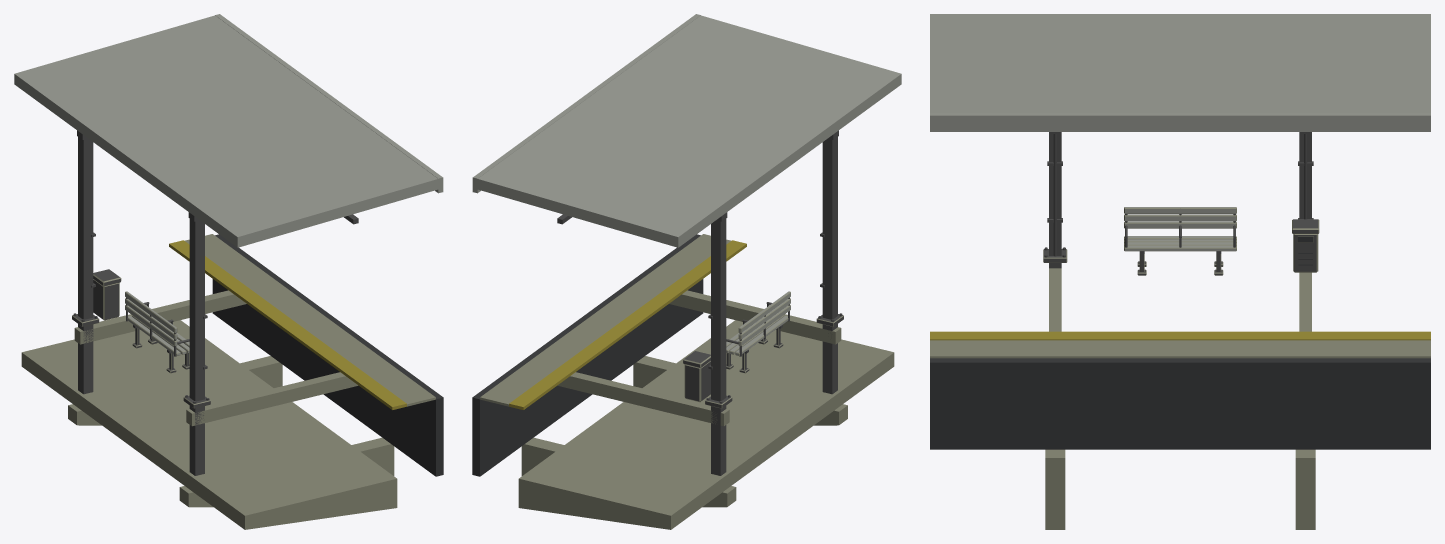
File: platform_close.fbx
3 renders of one model, left to right at view 1: azimuth 30°, elevation 25°; view 2: azimuth 150°, elevation 25°; view 3: azimuth 270°, elevation 25°, orthographic. The views are drawn at different scales.
Visible parts, largest first — view 1: p462/platform_close; view 2: p462/platform_close; view 3: p462/platform_close.
Part boxes in pixels (left/top/right/bottom): p462/platform_close: left=14, top=14, right=443, bottom=529; p462/platform_close: left=472, top=14, right=901, bottom=529; p462/platform_close: left=930, top=14, right=1430, bottom=529.
Size of the model in its own units: 4.3 by 7.28 by 8.
